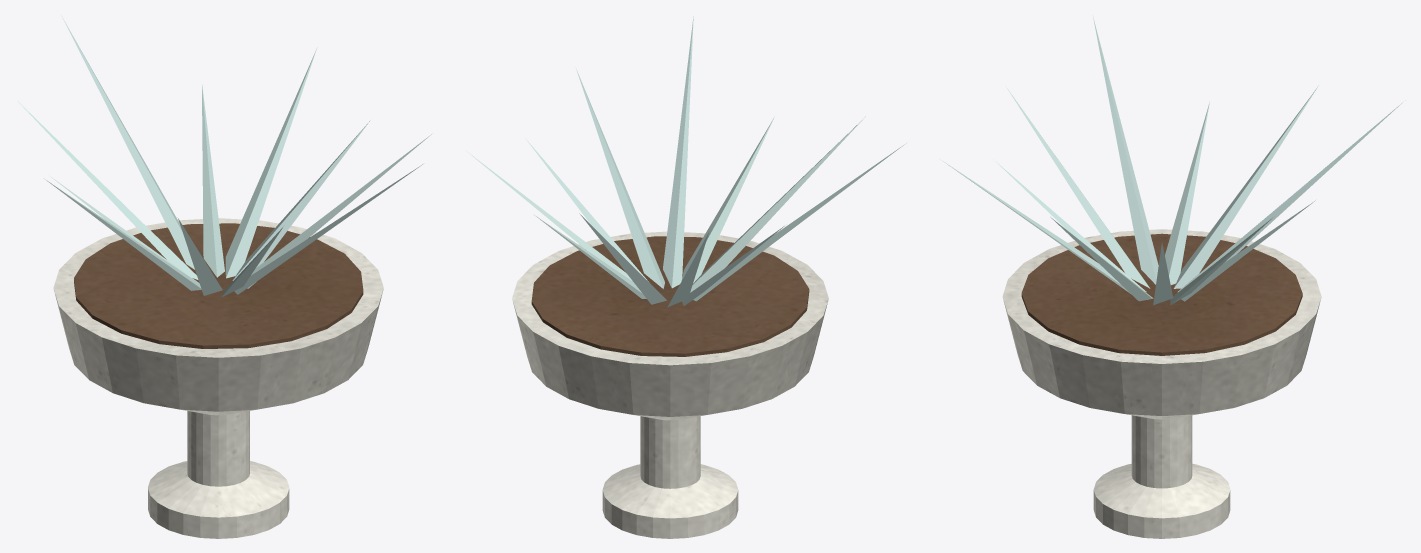
File: planter.glb
The picture shows the model from 3 angles, left to right: view 1: azimuth 30°, elevation 25°; view 2: azimuth 150°, elevation 25°; view 3: azimuth 270°, elevation 25°; orthographic projection. The views are drawn at different scales.
Parts seen in each view (by area): view 1: planter_stucco_w, planter_mulch, planter_cab_t; view 2: planter_stucco_w, planter_mulch, planter_cab_t; view 3: planter_stucco_w, planter_mulch, planter_cab_t.
Part boxes in pixels (left/top/right/bottom): planter_stucco_w: left=53, top=218, right=383, bottom=538; planter_mulch: left=74, top=223, right=363, bottom=348; planter_cab_t: left=18, top=15, right=431, bottom=297; planter_stucco_w: left=512, top=231, right=828, bottom=538; planter_mulch: left=531, top=236, right=809, bottom=356; planter_cab_t: left=465, top=16, right=906, bottom=307; planter_stucco_w: left=1002, top=229, right=1321, bottom=538; planter_mulch: left=1021, top=233, right=1302, bottom=355; planter_cab_t: left=940, top=15, right=1405, bottom=305.
Size of the model in its own units: 1.09 by 1.15 by 1.23.
Materials: 3 (2 with a texture image).
